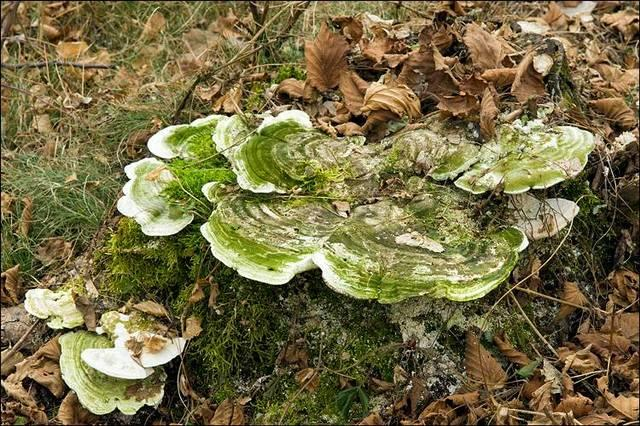poisonous_mushroom: (110, 90, 618, 318), (14, 272, 196, 415)
